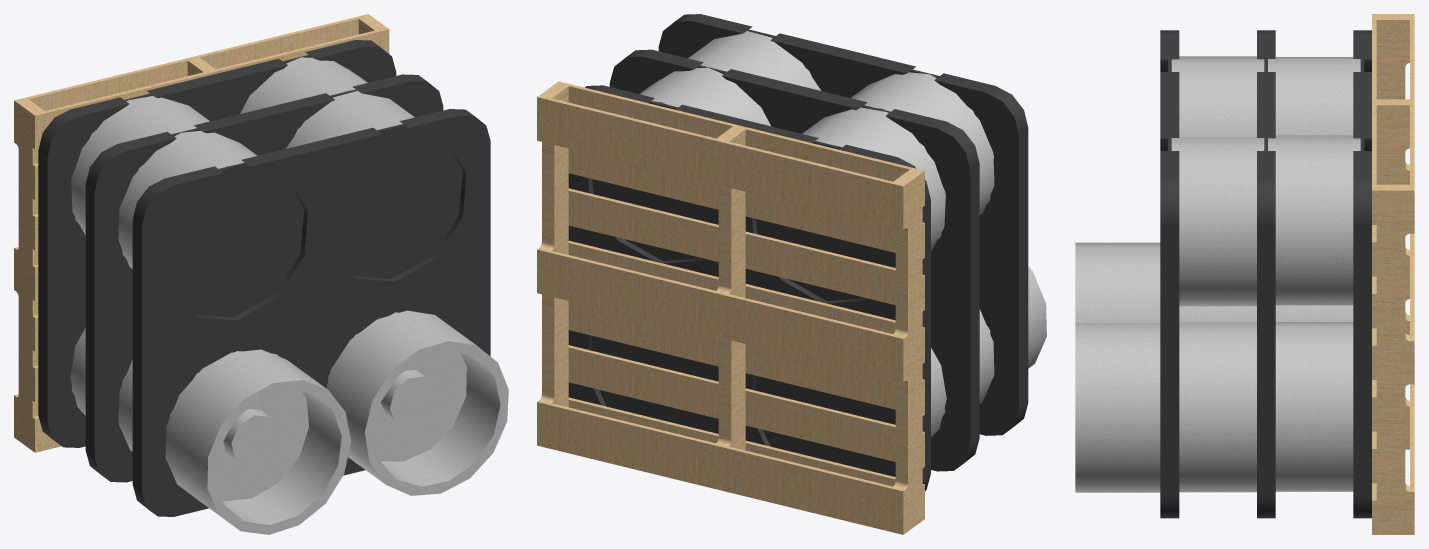
Rendered from pallet_forged_wheels_newaxis_semi.obj.
3 renders of one model, left to right at view 1: azimuth 30°, elevation 25°; view 2: azimuth 150°, elevation 25°; view 3: azimuth 270°, elevation 25°, orthographic. The views are drawn at different scales.
Parts seen in each view (by area): view 1: Solid1:11, Solid1:12, Solid1:13, Solid1:7, Solid1:2, Solid1, Solid1:3, Solid1:8, Solid1:6, Solid1:1, Solid1:4, Solid1:9; view 2: Solid1, Solid1:2, Solid1:11, Solid1:7, Solid1:8, Solid1:3, Solid1:6, Solid1:1, Solid1:12, Solid1:9, Solid1:4; view 3: Solid1, Solid1:13, Solid1:1, Solid1:6, Solid1:5, Solid1:10, Solid1:11, Solid1:2, Solid1:7, Solid1:12, Solid1:8, Solid1:3 (+2 smaller).
Boxes of the visible parts, x1,y1,x2,y2 form: Solid1:11: (132, 109, 490, 516); Solid1:12: (165, 349, 350, 534); Solid1:13: (326, 310, 508, 495); Solid1:7: (85, 74, 443, 482); Solid1:2: (38, 40, 396, 447); Solid1: (14, 14, 389, 452); Solid1:3: (71, 96, 209, 235); Solid1:8: (118, 131, 257, 268); Solid1:6: (286, 91, 414, 148); Solid1:1: (240, 57, 367, 113); Solid1:4: (70, 328, 85, 415); Solid1:9: (118, 360, 132, 451); Solid1: (537, 81, 924, 534); Solid1:2: (568, 85, 930, 490); Solid1:11: (658, 14, 1028, 435); Solid1:7: (609, 49, 979, 471); Solid1:8: (851, 72, 994, 214); Solid1:3: (802, 107, 945, 251); Solid1:6: (688, 31, 821, 90); Solid1:1: (639, 67, 770, 126); Solid1:12: (1028, 266, 1046, 368); Solid1:9: (979, 309, 994, 403); Solid1:4: (931, 348, 946, 437); Solid1: (1372, 14, 1414, 534); Solid1:13: (1075, 323, 1160, 492); Solid1:1: (1268, 135, 1360, 305); Solid1:6: (1171, 137, 1264, 306); Solid1:5: (1275, 322, 1353, 491); Solid1:10: (1179, 322, 1256, 492); Solid1:11: (1160, 30, 1179, 518); Solid1:2: (1353, 30, 1371, 518); Solid1:7: (1257, 30, 1275, 518); Solid1:12: (1075, 242, 1160, 322); Solid1:8: (1171, 56, 1264, 136); Solid1:3: (1268, 57, 1360, 135).
Bounding box in the file's own units: 1.12 × 1.02 × 0.9074.
